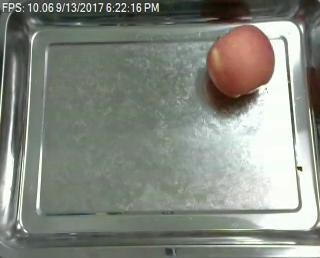apple: (206, 24, 275, 98)
